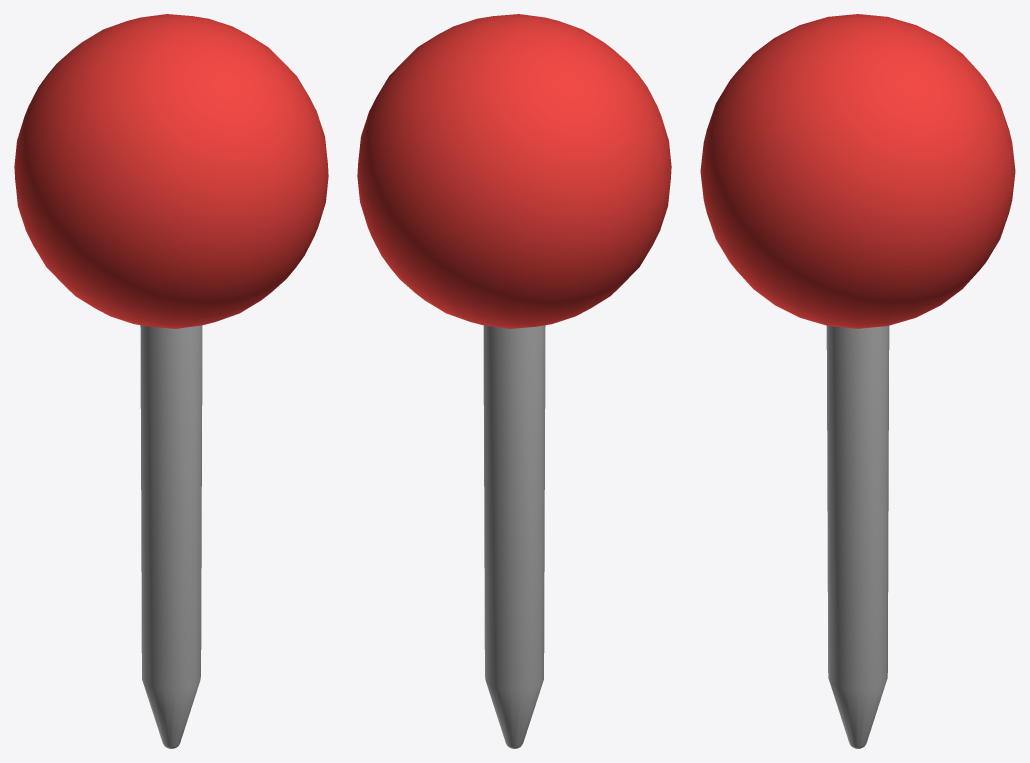
The model's file is round_pushpin.glb.
3 renders of one model, left to right at view 1: azimuth 30°, elevation 25°; view 2: azimuth 150°, elevation 25°; view 3: azimuth 270°, elevation 25°, orthographic.
Parts seen in each view (by area): view 1: Circle.2571; view 2: Circle.2571; view 3: Circle.2571.
Part boxes in pixels (left/top/right/bottom): Circle.2571: left=14, top=14, right=328, bottom=748; Circle.2571: left=357, top=14, right=671, bottom=748; Circle.2571: left=700, top=14, right=1015, bottom=748.
Bounding box in the file's own units: 0.9575 × 2.41 × 0.9575.
Materials: 1 (1 with a texture image).
